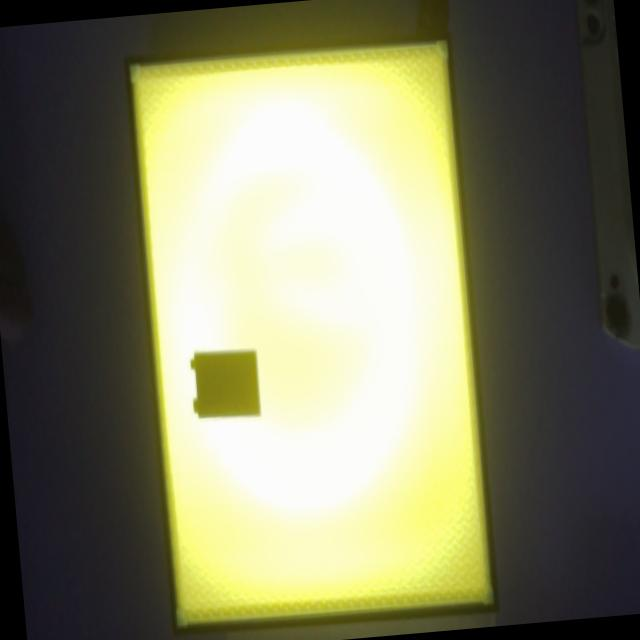bateria: (189, 344, 261, 418)
mesa: (123, 28, 500, 636)
